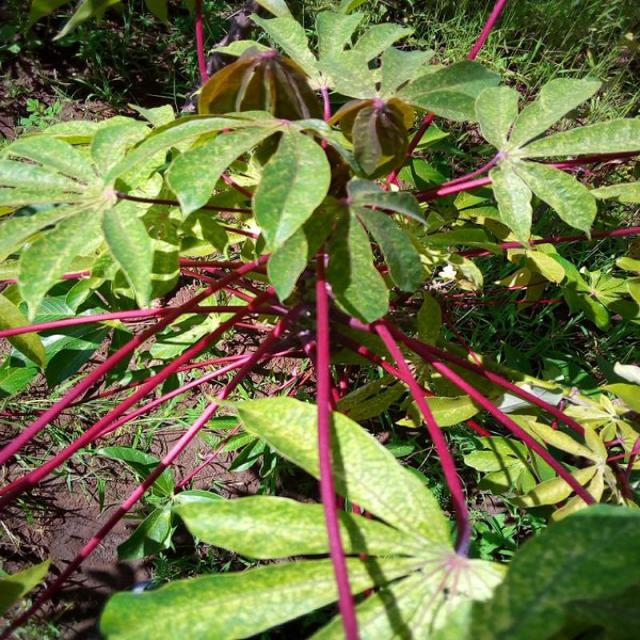cassava leaf: (234, 392, 453, 557)
